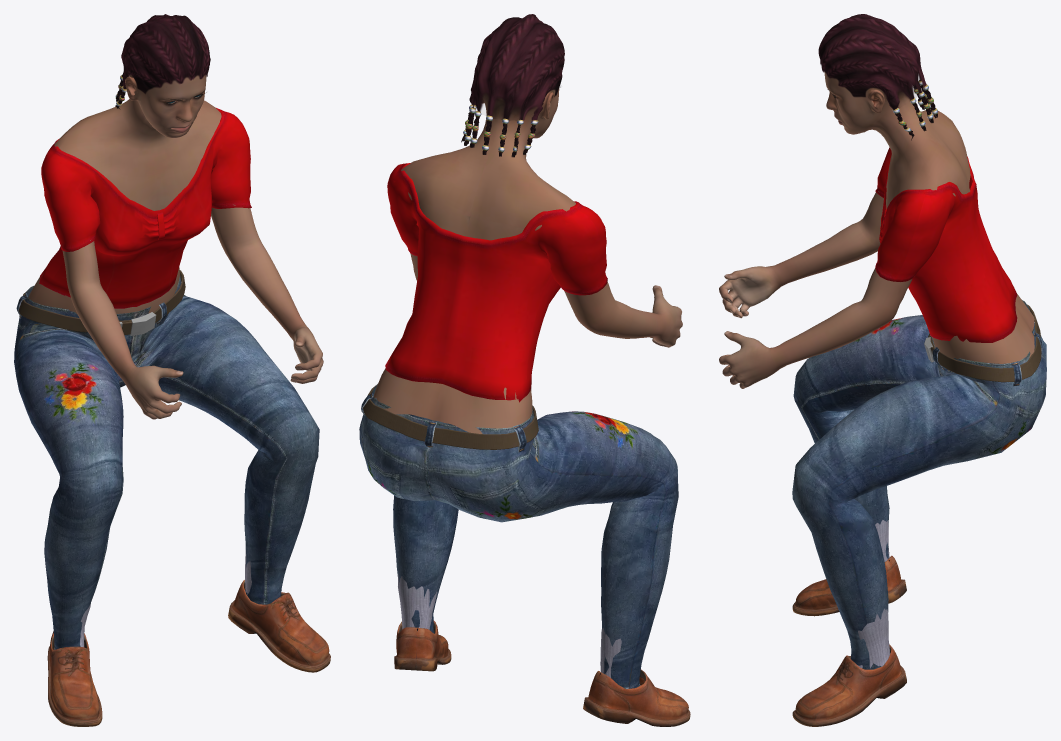
Rendered from donna-02.glb.
3 views of the same model, side by side, from view 1: azimuth 30°, elevation 25°; view 2: azimuth 150°, elevation 25°; view 3: azimuth 270°, elevation 25° (orthographic). The views are drawn at different scales.
Parts seen in each view (by area): view 1: Human.mindfront_female_trousers_1, Human, Human.punkduck_retro_top, Human.shoes01, Human.elvs_braided_rows; view 2: Human.mindfront_female_trousers_1, Human.punkduck_retro_top, Human, Human.elvs_braided_rows, Human.shoes01; view 3: Human.mindfront_female_trousers_1, Human, Human.punkduck_retro_top, Human.shoes01, Human.elvs_braided_rows.
Part boxes in pixels (bbox=[...]): Human.mindfront_female_trousers_1: bbox=[14, 270, 319, 649]; Human: bbox=[28, 74, 323, 419]; Human.punkduck_retro_top: bbox=[39, 108, 251, 308]; Human.shoes01: bbox=[47, 550, 330, 726]; Human.elvs_braided_rows: bbox=[115, 14, 210, 109]; Human.mindfront_female_trousers_1: bbox=[359, 384, 678, 688]; Human.punkduck_retro_top: bbox=[385, 163, 607, 402]; Human: bbox=[373, 88, 682, 433]; Human.elvs_braided_rows: bbox=[461, 14, 564, 157]; Human.shoes01: bbox=[394, 573, 690, 726]; Human.mindfront_female_trousers_1: bbox=[792, 300, 1046, 669]; Human: bbox=[719, 71, 1034, 388]; Human.punkduck_retro_top: bbox=[875, 147, 1017, 342]; Human.shoes01: bbox=[792, 520, 906, 726]; Human.elvs_braided_rows: bbox=[818, 14, 937, 140].
Bounding box in the file's own units: 0.6124 × 1.43 × 0.6585.
13 materials, 13 textured.
